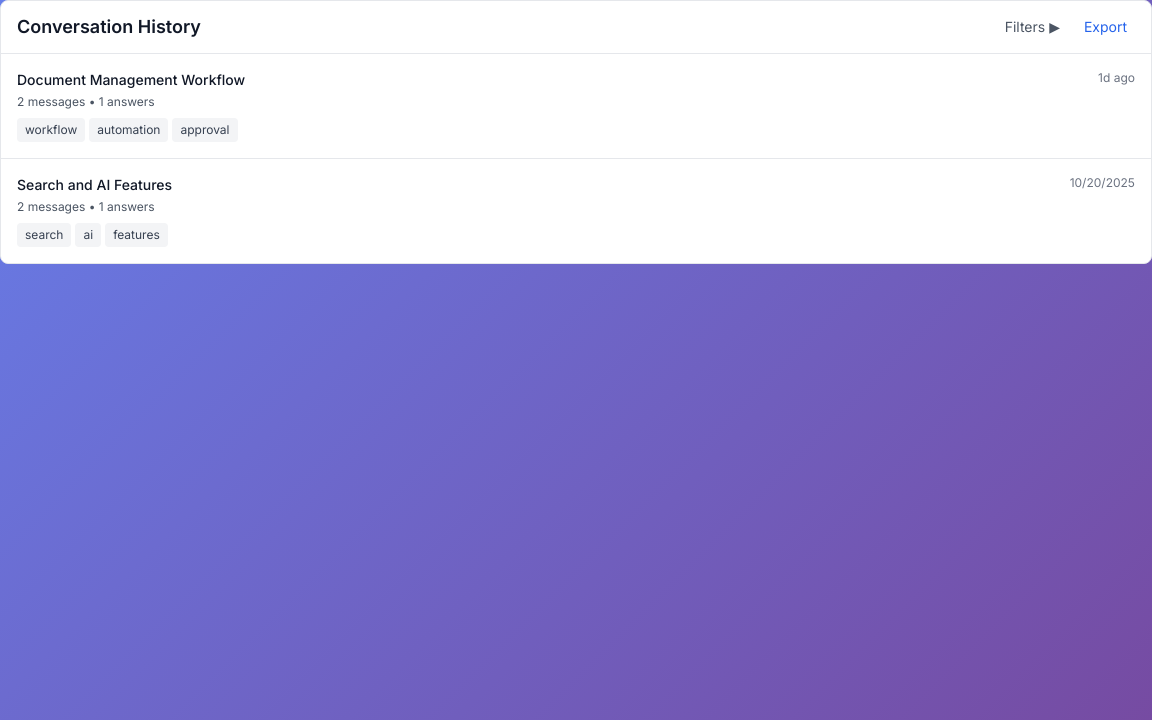
Test case: ConversationHistoryManager › filters conversations by answer presence
// Open filters
Click the button "Filters ▶" at (1032, 27), box [997,13,1068,41]
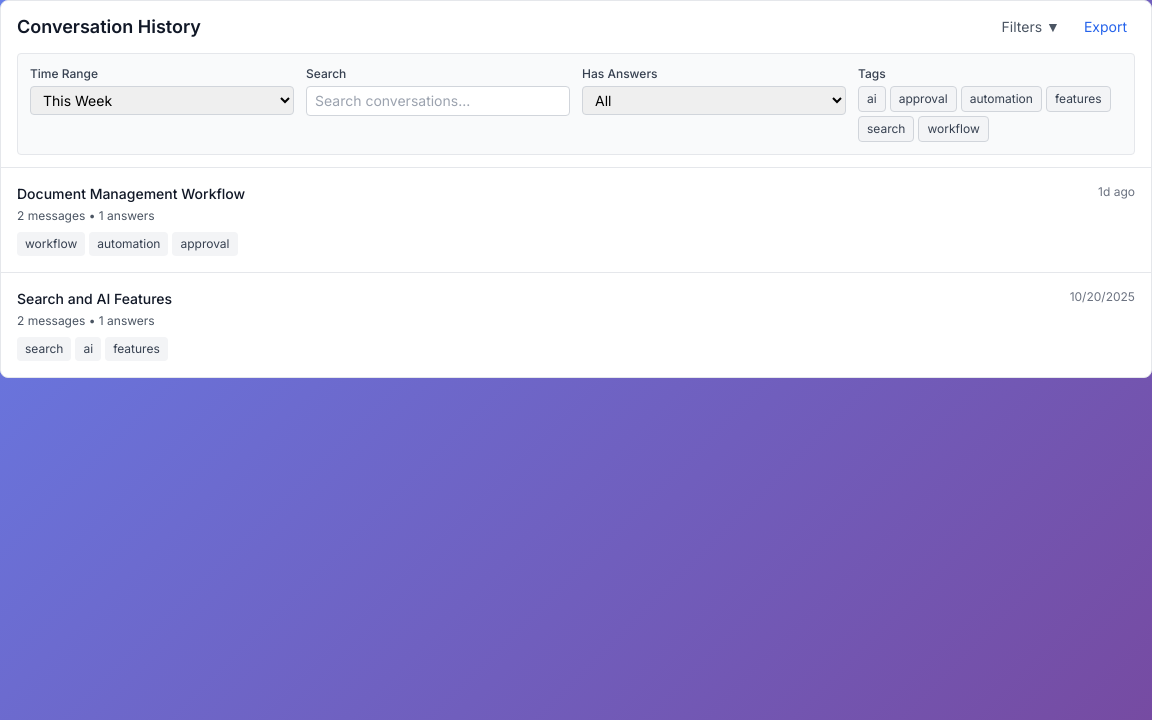
// Filter to show only conversations with answers
Select "With Answers" in the dropdown showing "All" below "Has Answers" at (714, 100), box [582,86,846,115]
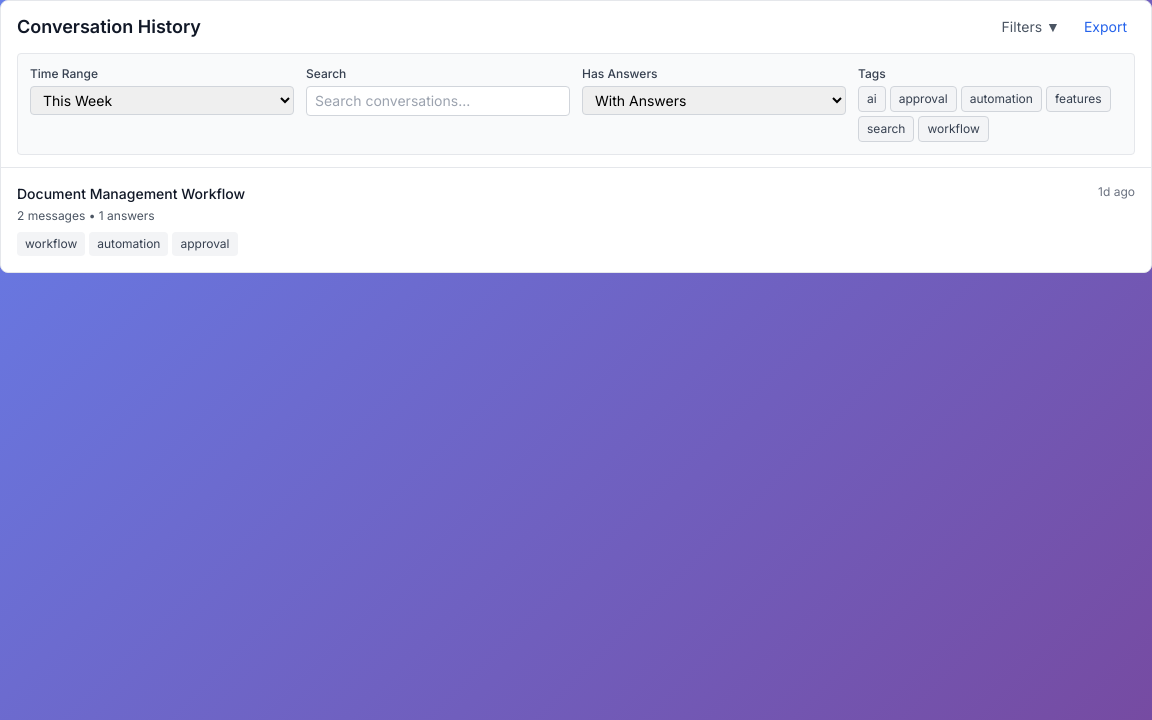
Check: the heading "Document Management Workflow" is shown, box [17,185,245,202]
Check: the heading "Search and AI Features" is gone
